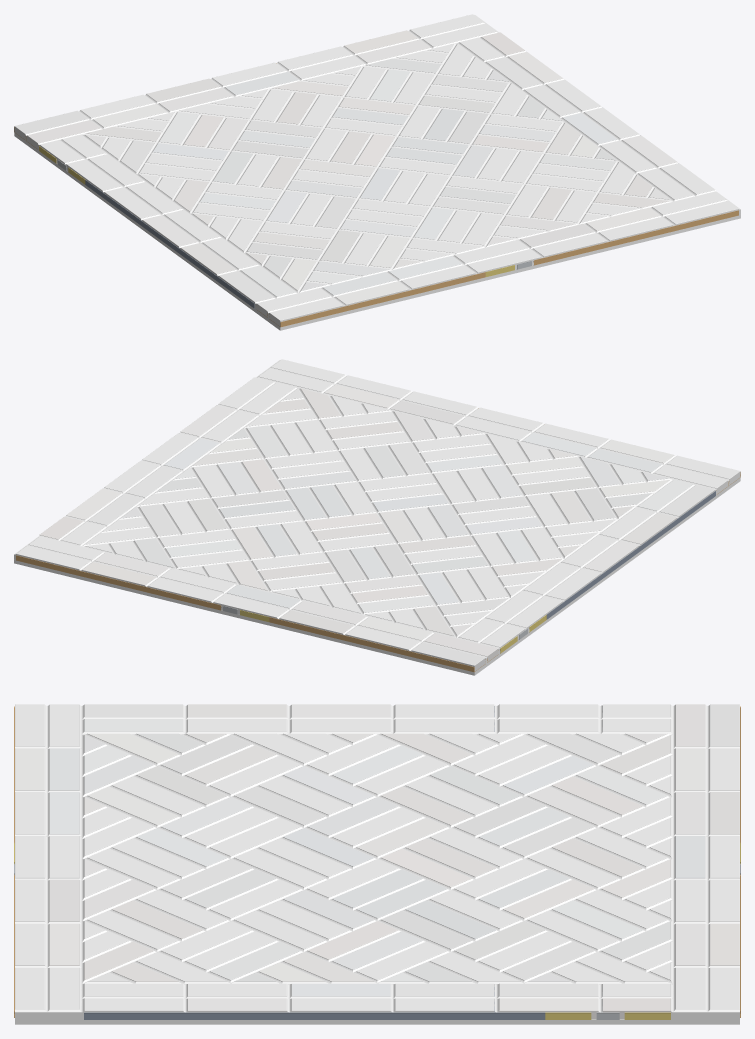
File: board_8.glb
3 renders of one model, top to bottom at view 1: azimuth 30°, elevation 25°; view 2: azimuth 150°, elevation 25°; view 3: azimuth 270°, elevation 25°, orthographic. The views are drawn at different scales.
Parts seen in each view (by area): view 1: B01, MORTAR, B07, B06, backing, CLIP_R700, B12, B05, CLIP_R1000; view 2: B01, MORTAR, B07, B06, backing, CLIP_R700, B12, B05, CLIP_R1000; view 3: B01, MORTAR, B07, B06, B12, backing, CLIP_R1000, B05, CLIP_R100, CLIP_R700.
Part boxes in pixels (left/top/right/bottom): B01: left=14, top=14, right=738, bottom=326; MORTAR: left=25, top=15, right=740, bottom=318; B07: left=86, top=44, right=669, bottom=290; B06: left=103, top=51, right=652, bottom=283; backing: left=14, top=132, right=740, bottom=330; CLIP_R700: left=14, top=63, right=738, bottom=327; B12: left=39, top=32, right=524, bottom=163; B05: left=85, top=43, right=669, bottom=290; CLIP_R1000: left=85, top=180, right=254, bottom=308; B01: left=16, top=359, right=740, bottom=671; MORTAR: left=14, top=360, right=729, bottom=663; B07: left=85, top=388, right=669, bottom=635; B06: left=103, top=396, right=651, bottom=628; backing: left=14, top=477, right=740, bottom=675; CLIP_R700: left=16, top=408, right=740, bottom=672; B12: left=39, top=516, right=524, bottom=652; B05: left=85, top=389, right=668, bottom=635; CLIP_R1000: left=546, top=491, right=715, bottom=619; B01: left=15, top=704, right=739, bottom=1018; MORTAR: left=15, top=705, right=739, bottom=1019; B07: left=84, top=733, right=670, bottom=981; B06: left=84, top=733, right=670, bottom=981; B12: left=603, top=704, right=670, bottom=1018; backing: left=15, top=1019, right=739, bottom=1024; CLIP_R1000: left=84, top=706, right=545, bottom=1019; B05: left=84, top=733, right=670, bottom=981; CLIP_R100: left=14, top=842, right=740, bottom=1019; CLIP_R700: left=14, top=706, right=740, bottom=1017.
Bounding box in the file's own units: 1.58 × 0.033 × 1.58.
10 materials, 1 textured.
